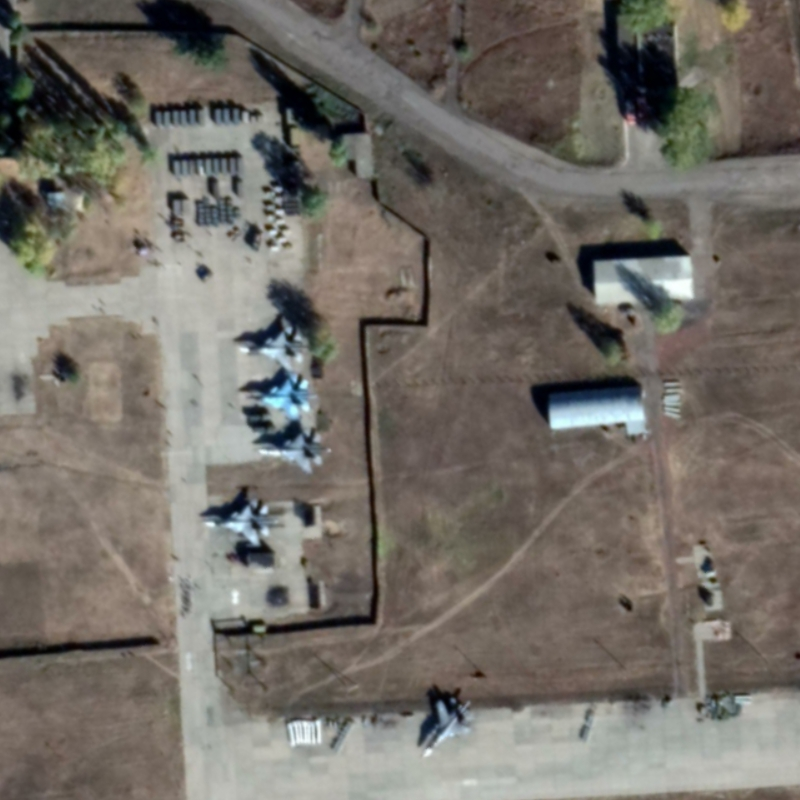A19: (198, 495, 282, 548), (233, 318, 310, 372), (420, 692, 477, 760), (241, 375, 322, 422), (256, 429, 335, 476)
